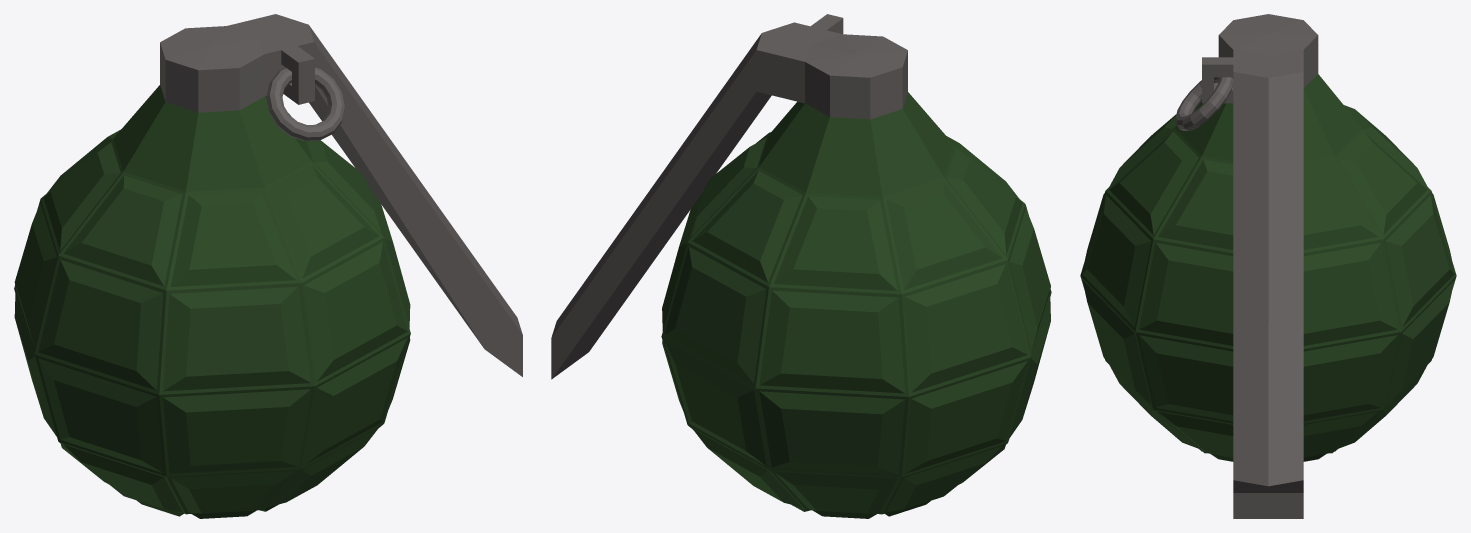
Rendered from Granata.fbx.
3 renders of one model, left to right at view 1: azimuth 30°, elevation 25°; view 2: azimuth 150°, elevation 25°; view 3: azimuth 270°, elevation 25°, orthographic. The views are drawn at different scales.
Visible parts, largest first — view 1: Cube; view 2: Cube; view 3: Cube.
Boxes of the visible parts, box(x1,y1,x2,y2) form: Cube: box(14, 14, 522, 518); Cube: box(551, 14, 1051, 518); Cube: box(1080, 14, 1456, 518).
Size of the model in its own units: 271 by 242 by 200.
